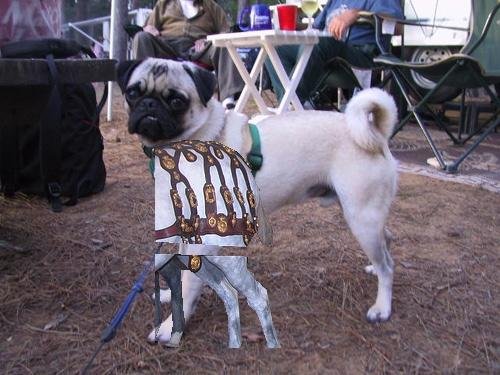tampered: (156, 140, 281, 348)
